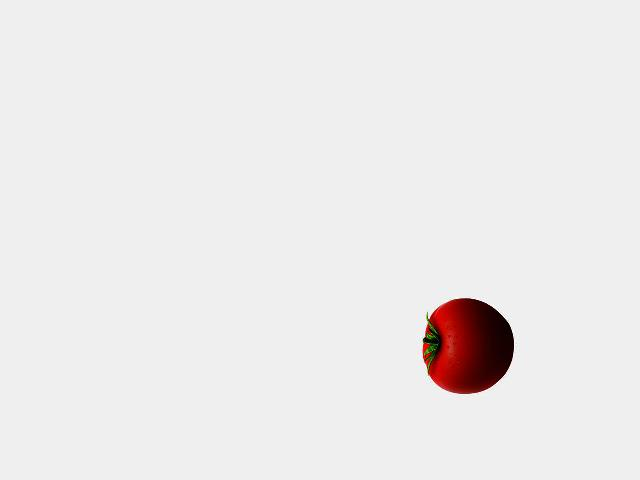tomato: (422, 298, 513, 382)
